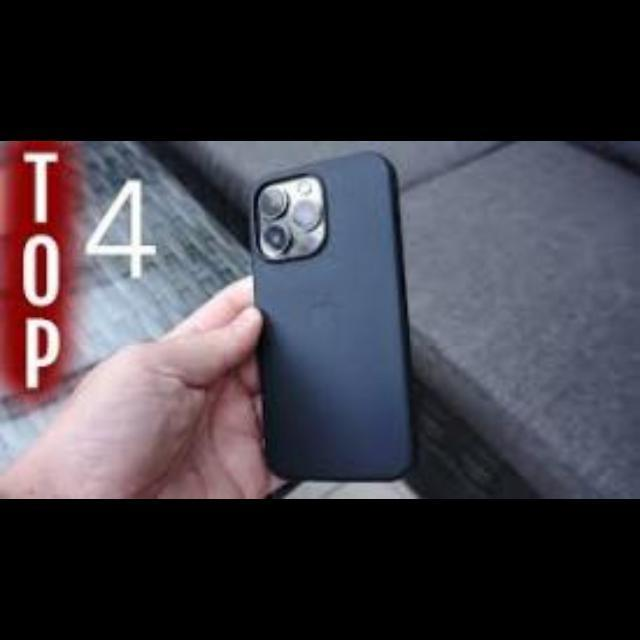phone: (231, 143, 427, 489)
